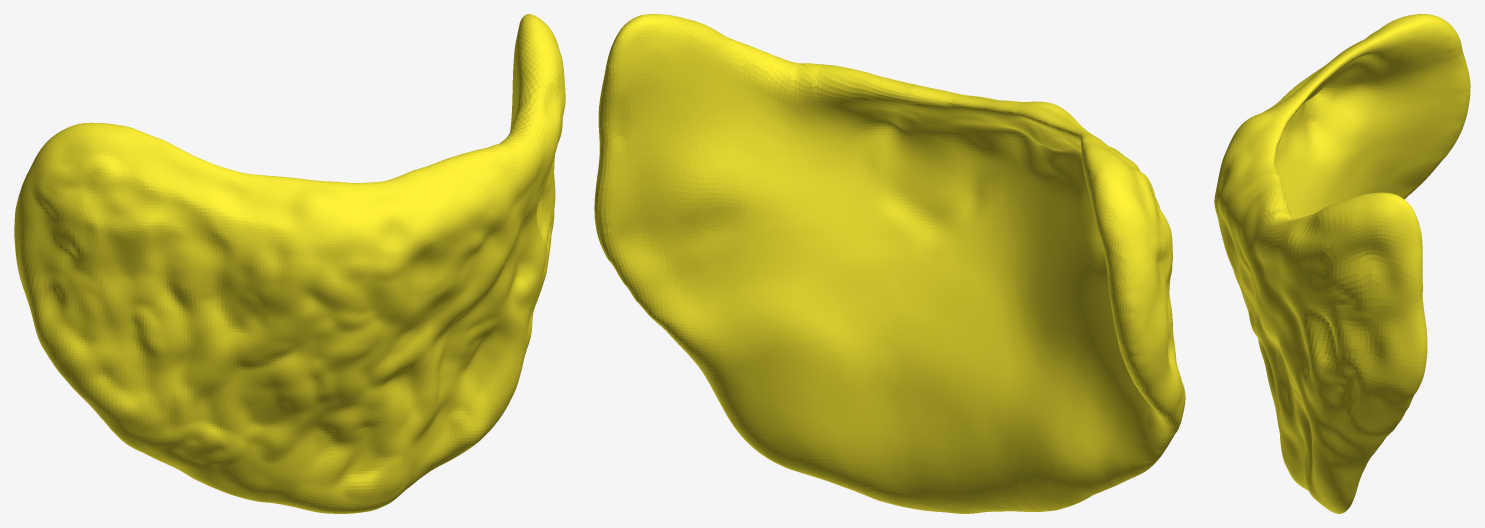
The model's file is reference-omentum.glb.
3 renders of one model, left to right at view 1: azimuth 30°, elevation 25°; view 2: azimuth 150°, elevation 25°; view 3: azimuth 270°, elevation 25°, orthographic. The views are drawn at different scales.
Parts seen in each view (by area): view 1: VH_F_omentum; view 2: VH_F_omentum; view 3: VH_F_omentum.
Boxes of the visible parts, x1,y1,x2,y2 form: VH_F_omentum: (14, 14, 565, 513); VH_F_omentum: (594, 14, 1185, 513); VH_F_omentum: (1214, 14, 1470, 513).
Size of the model in its own units: 0.248 by 0.1909 by 0.1157.
